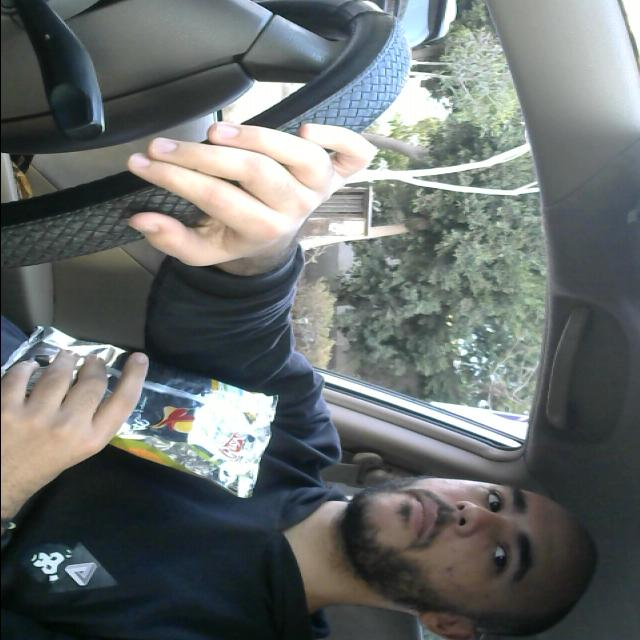eating: (0, 319, 287, 501)
